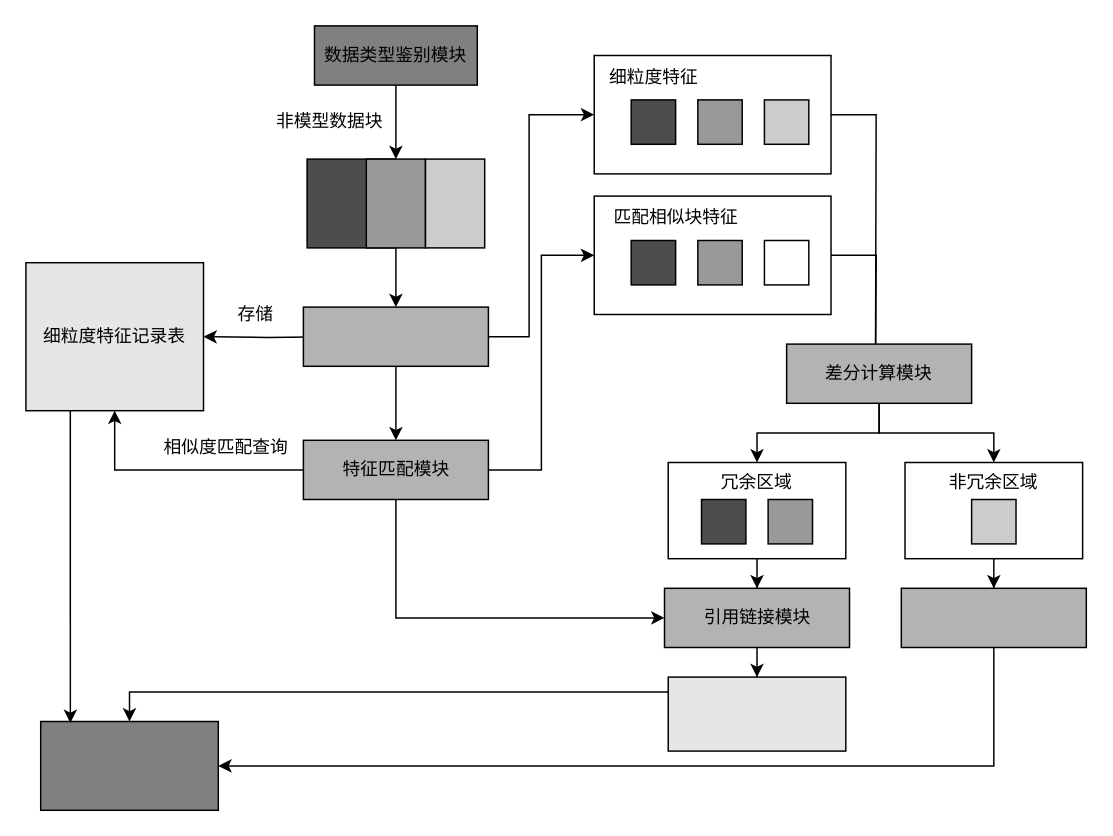
Image size: 1113x836. Some labels were removed from this diagram. Here are the shapes that lost their labels. From the top down, the centre of each, then its label:
[395,336]: 细粒度特征计算模块
[993,617]: 压缩存储模块
[756,713]: 冗余区域记录表
[128,765]: SSD 磁盘存储
